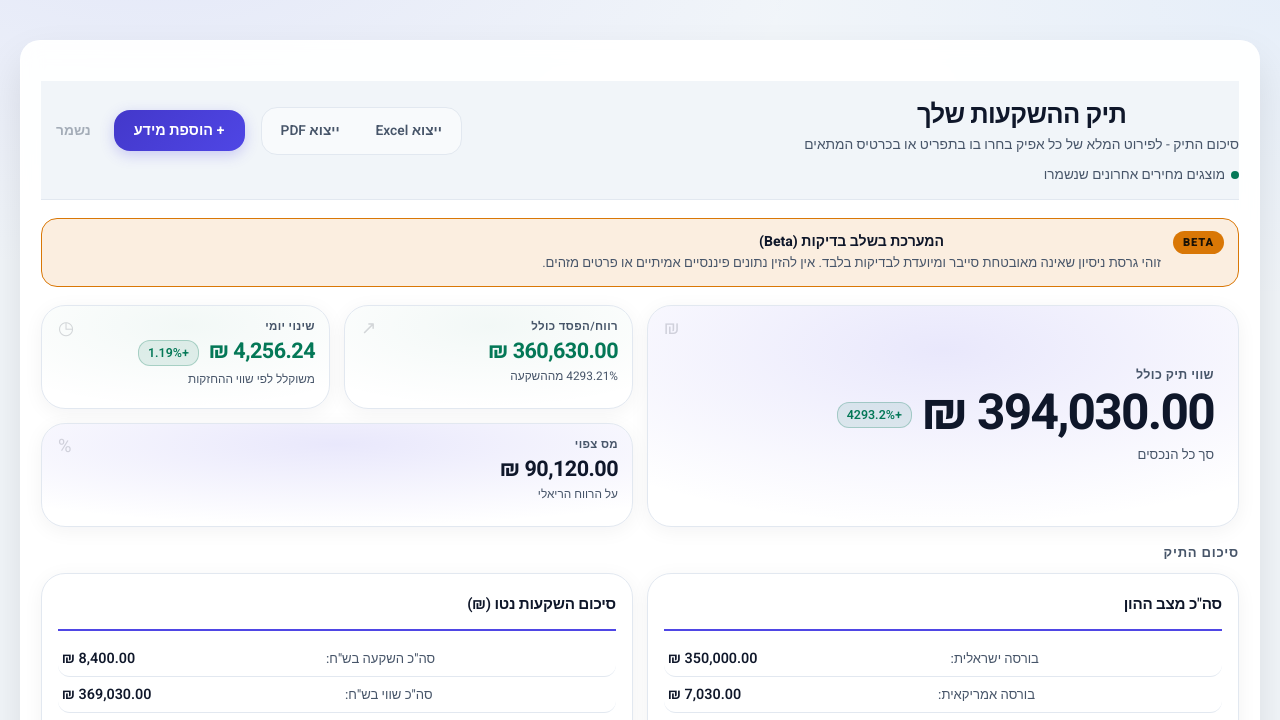
shows an error message if the PDF export throws
The image size is (1280, 720).
Click the button "ייצוא PDF".
click(310, 131)  # box [266, 112, 355, 150]
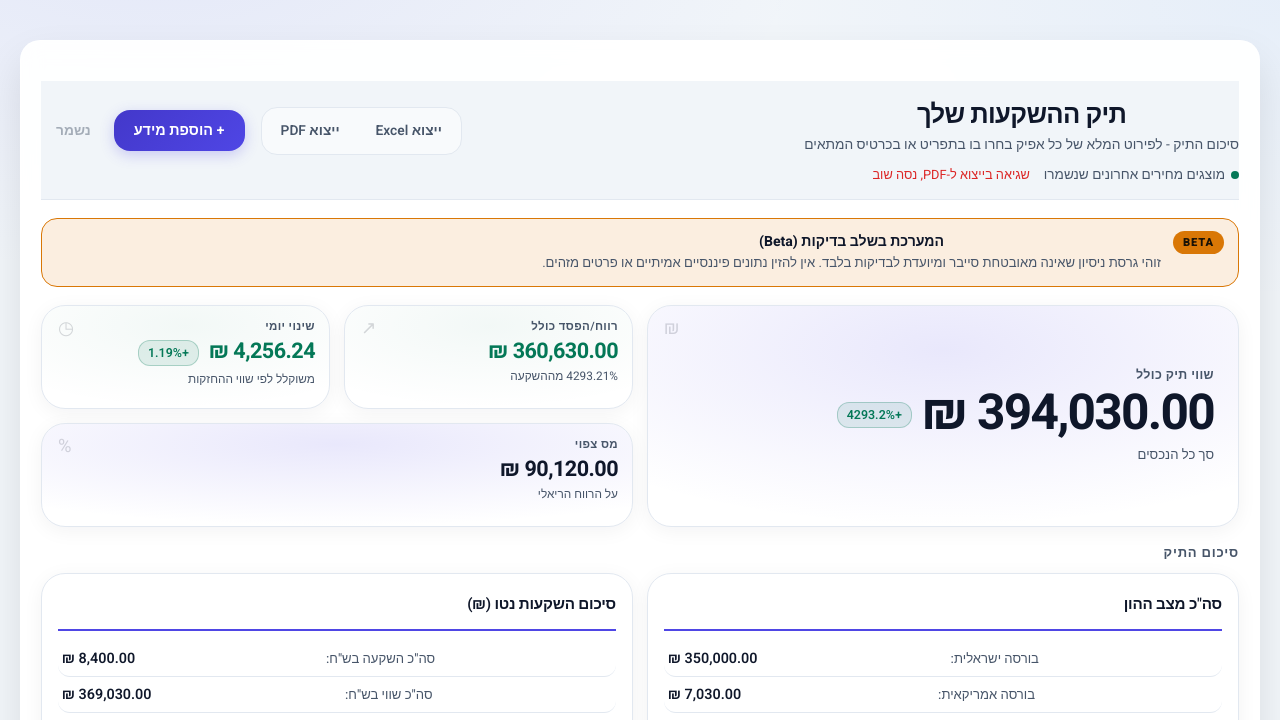
expect the text "שגיאה בייצוא ל-PDF, נסה שוב" is shown: met, box [872, 166, 1030, 184]
